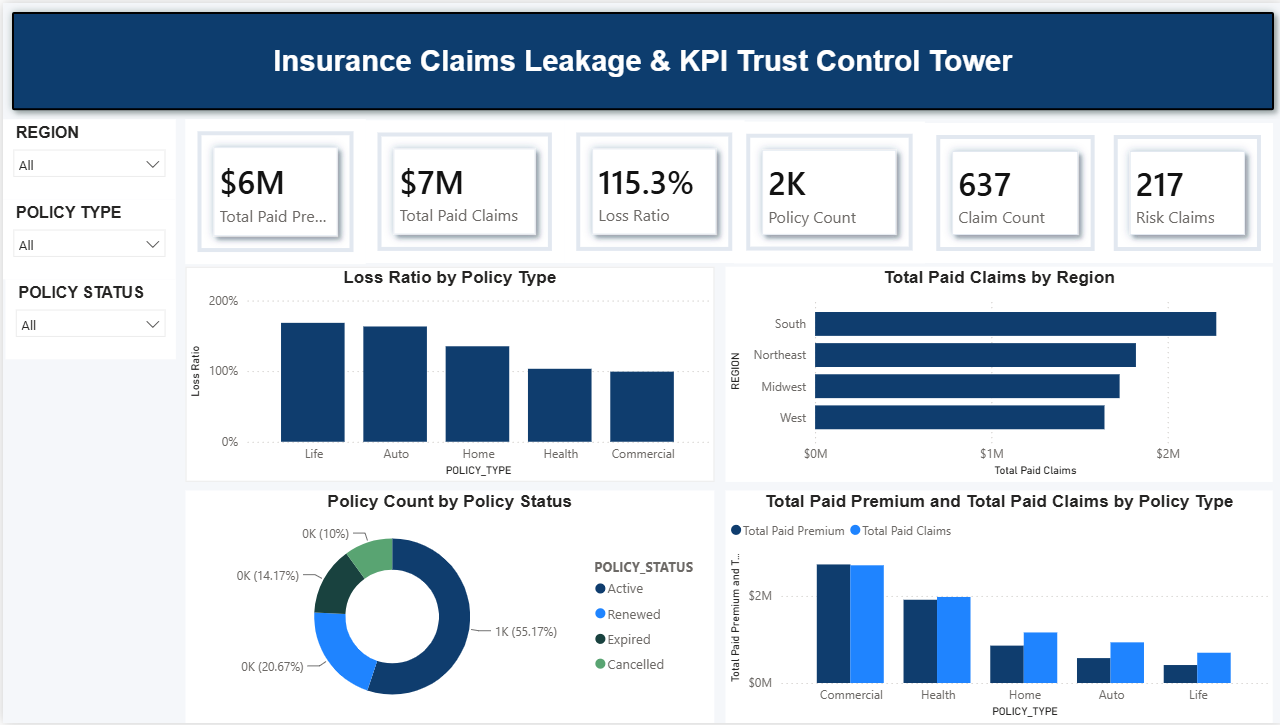

What the dashboard file says about the page in this screenshot:
{"tool":"powerbi","page":{"name":"Executive Overview","canvas":[1280,720],"ordinal":0},"visuals":[{"type":"cardVisual","title":"Paid ","fields":{"Data":["MART_INSURANCE_PERFORMANCE.Total Paid Premium"]},"box":[182.5,116.2,180,145],"z":0},{"type":"cardVisual","fields":{"Data":["MART_INSURANCE_PERFORMANCE.Total Paid Claims"]},"box":[362.5,117.5,198.8,142.5],"z":1000},{"type":"cardVisual","fields":{"Data":["MART_INSURANCE_PERFORMANCE.Loss Ratio"]},"box":[561.2,117.5,180,142.5],"z":2000},{"type":"cardVisual","fields":{"Data":["MART_INSURANCE_PERFORMANCE.Policy Count"]},"box":[731.2,118.8,190,141.2],"z":3000},{"type":"cardVisual","fields":{"Data":["MART_INSURANCE_PERFORMANCE.Claim Count"]},"box":[921.2,120,182.5,140],"z":4000},{"type":"cardVisual","fields":{"Data":["MART_CLAIMS_LEAKAGE.Risk Claims"]},"box":[1098.8,120,171.2,140],"z":5000},{"type":"clusteredColumnChart","title":"Loss Ratio by Policy Type","fields":{"Category":["MART_INSURANCE_PERFORMANCE.POLICY_TYPE"],"Y":["MART_INSURANCE_PERFORMANCE.Loss Ratio"]},"box":[182.5,263.8,528.8,215],"z":6000},{"type":"clusteredBarChart","title":"Total Paid Claims by Region","fields":{"Category":["MART_INSURANCE_PERFORMANCE.REGION"],"Y":["MART_INSURANCE_PERFORMANCE.Total Paid Claims"]},"box":[722.5,263.8,547.5,215],"z":7000},{"type":"donutChart","title":"Policy Count by Policy Status","fields":{"Category":["MART_INSURANCE_PERFORMANCE.POLICY_STATUS"],"Y":["MART_INSURANCE_PERFORMANCE.Policy Count"]},"box":[182.5,487.5,528.8,232.5],"z":8000},{"type":"clusteredColumnChart","title":"Total Paid Premium and Total Paid Claims by Policy Type","fields":{"Category":["MART_INSURANCE_PERFORMANCE.POLICY_TYPE"],"Y":["MART_INSURANCE_PERFORMANCE.Total Paid Premium","MART_INSURANCE_PERFORMANCE.Total Paid Claims"]},"box":[722.5,487.5,547.5,232.5],"z":9000},{"type":"slicer","fields":{"Values":["MART_INSURANCE_PERFORMANCE.REGION"]},"box":[0,116.2,172.5,80],"z":10000},{"type":"slicer","fields":{"Values":["MART_INSURANCE_PERFORMANCE.POLICY_TYPE"]},"box":[0,196.2,172.5,80],"z":11000},{"type":"slicer","fields":{"Values":["MART_INSURANCE_PERFORMANCE.POLICY_STATUS"]},"box":[2.5,276.2,170,80],"z":12000},{"type":"shape","box":[0,0,1280,116.2],"z":13000}]}

Visuals, with their boxes in screenshot pixels (x1, y1, x2, y2), scaled from the page's 1280x720 canvas onto the 1280x725 screenshot:
"Paid " cardVisual: pyautogui.locateOnScreen(182, 117, 362, 263)
cardVisual - MART_INSURANCE_PERFORMANCE.Total Paid Claims: pyautogui.locateOnScreen(362, 118, 561, 262)
cardVisual - MART_INSURANCE_PERFORMANCE.Loss Ratio: pyautogui.locateOnScreen(561, 118, 741, 262)
cardVisual - MART_INSURANCE_PERFORMANCE.Policy Count: pyautogui.locateOnScreen(731, 120, 921, 262)
cardVisual - MART_INSURANCE_PERFORMANCE.Claim Count: pyautogui.locateOnScreen(921, 121, 1104, 262)
cardVisual - MART_CLAIMS_LEAKAGE.Risk Claims: pyautogui.locateOnScreen(1099, 121, 1270, 262)
"Loss Ratio by Policy Type" clusteredColumnChart: pyautogui.locateOnScreen(182, 266, 711, 482)
"Total Paid Claims by Region" clusteredBarChart: pyautogui.locateOnScreen(722, 266, 1270, 482)
"Policy Count by Policy Status" donutChart: pyautogui.locateOnScreen(182, 491, 711, 724)
"Total Paid Premium and Total Paid Claims by Policy Type" clusteredColumnChart: pyautogui.locateOnScreen(722, 491, 1270, 724)
slicer - MART_INSURANCE_PERFORMANCE.REGION: pyautogui.locateOnScreen(0, 117, 172, 198)
slicer - MART_INSURANCE_PERFORMANCE.POLICY_TYPE: pyautogui.locateOnScreen(0, 198, 172, 278)
slicer - MART_INSURANCE_PERFORMANCE.POLICY_STATUS: pyautogui.locateOnScreen(2, 278, 172, 359)
shape: pyautogui.locateOnScreen(0, 0, 1279, 117)
